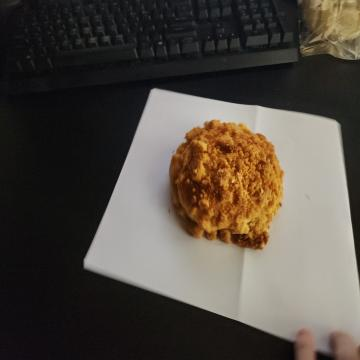soboru_bread: (170, 119, 284, 251)
